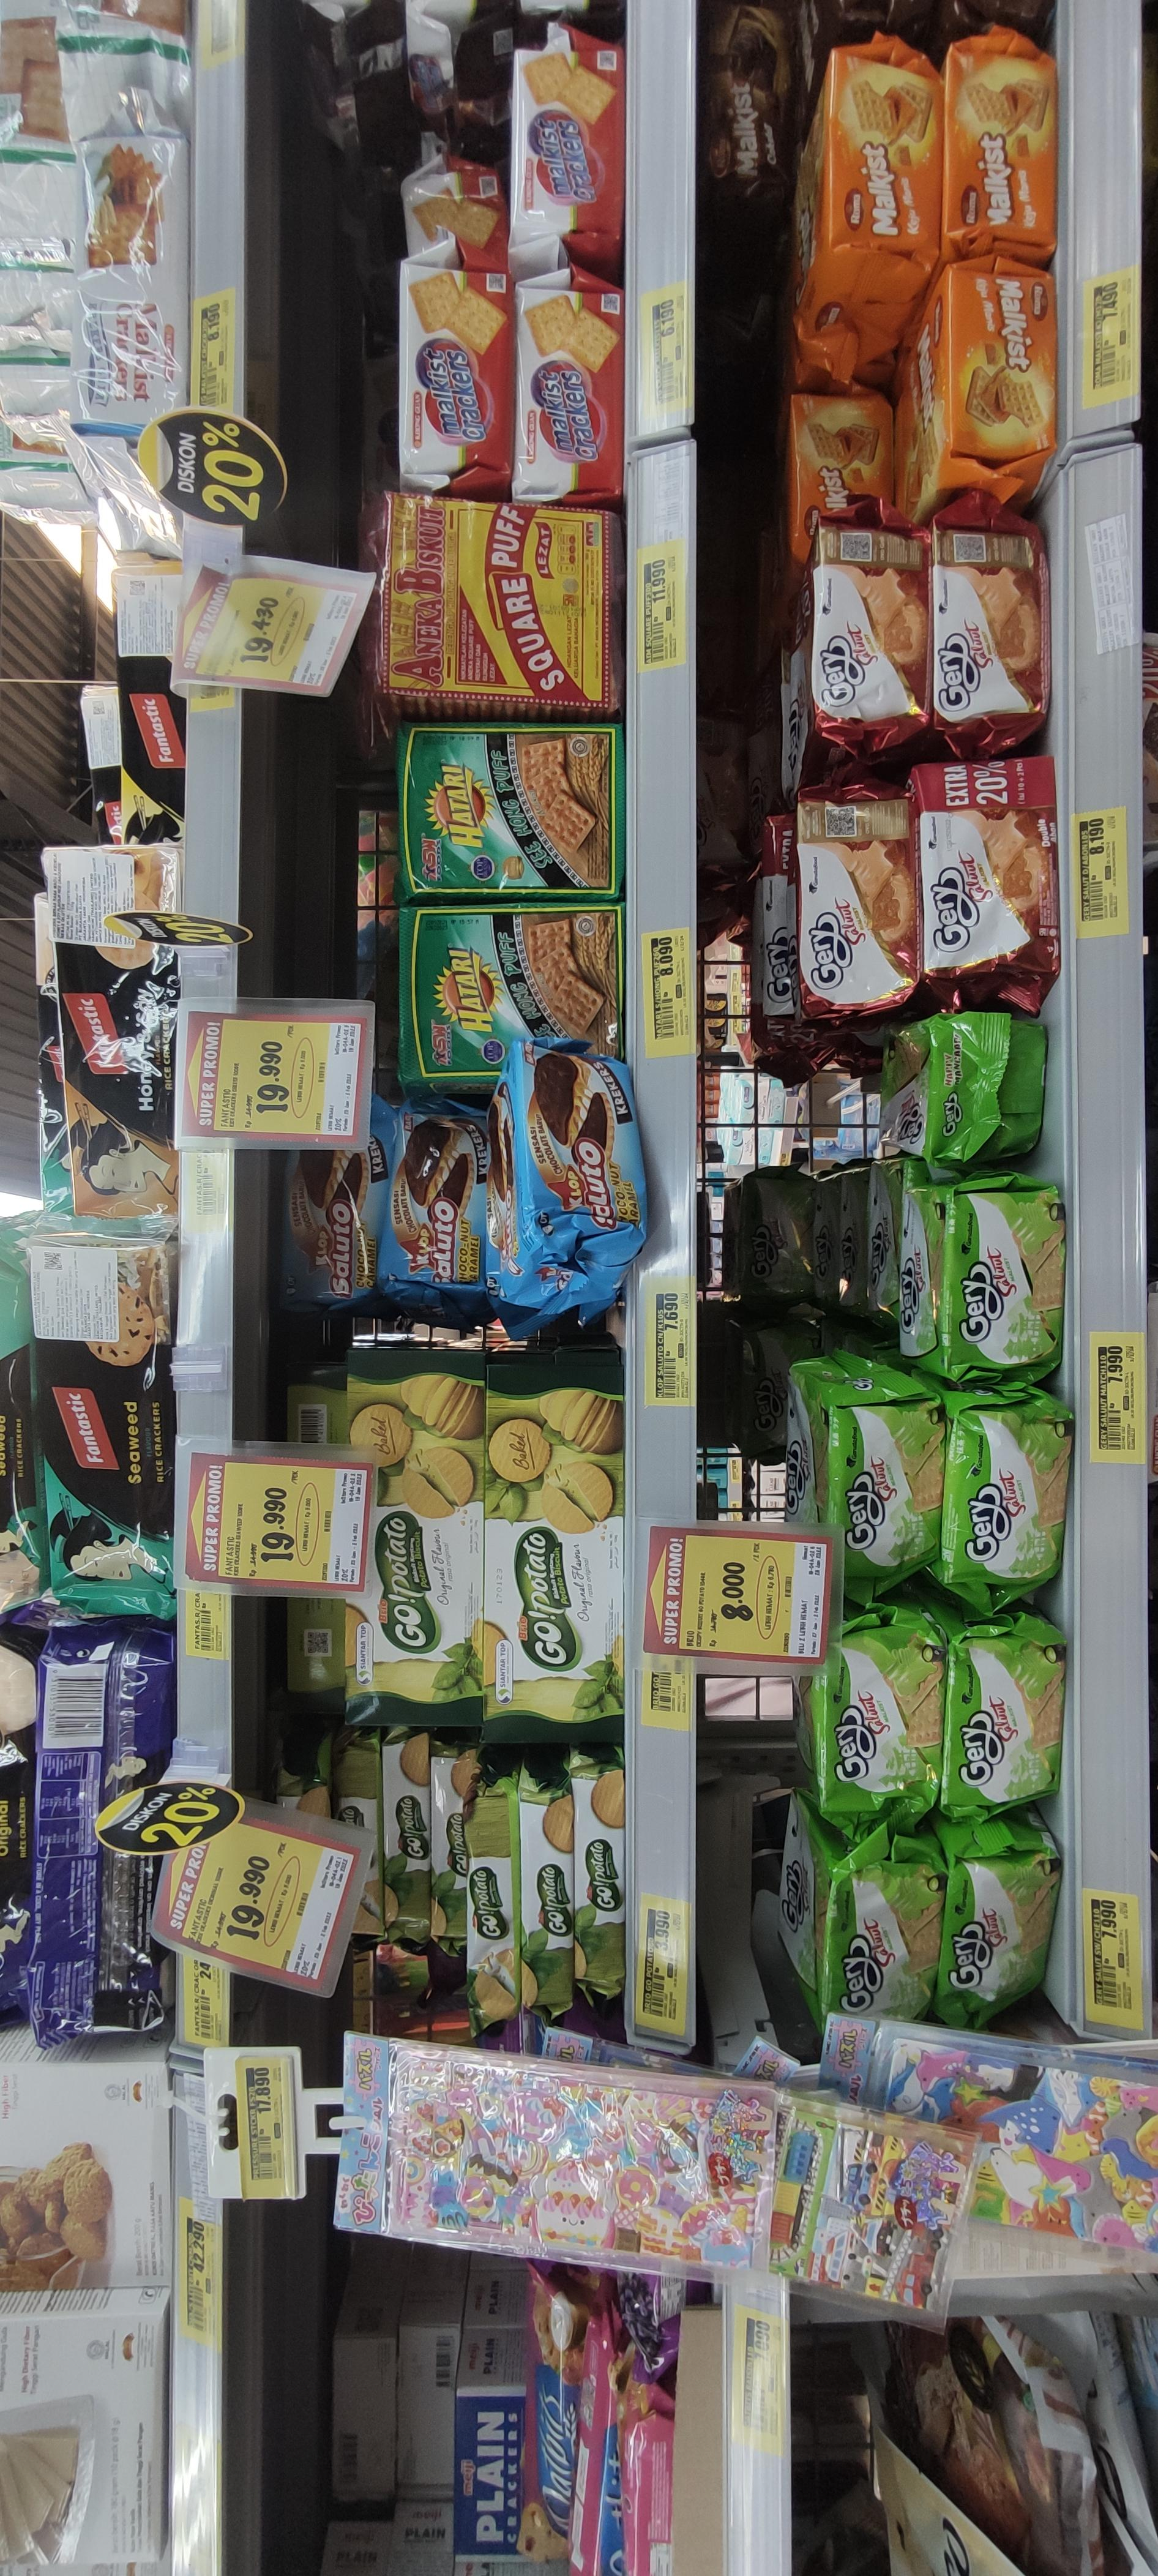90101225212100: (772, 1820, 940, 2027), (775, 1372, 941, 1579), (900, 1178, 1074, 1375), (813, 1620, 949, 1833), (944, 1390, 1066, 1600), (949, 1621, 1068, 1832), (944, 1827, 1061, 2037)
90101225226101: (920, 777, 1084, 1002), (752, 794, 915, 1019), (788, 521, 923, 762), (923, 514, 1058, 744)
AnekaBiskuitSquarePuff: (381, 495, 624, 713)
FantasticHoney&Soy: (48, 853, 177, 1216)
FantasticSeaweed: (39, 1232, 174, 1621)
HatariSeeHongPuff: (401, 721, 619, 899), (407, 904, 626, 1081)
KlopSlutoChocoNutCaramel: (499, 1043, 641, 1319), (389, 1094, 493, 1291)
KongGuanMalkistCrackers: (396, 264, 522, 499), (519, 279, 624, 499), (514, 41, 619, 261)
RomaMalkistKeju: (785, 34, 941, 284), (900, 255, 1056, 503), (944, 28, 1056, 255)
SiantaTopGoPotatoOriginal: (486, 1393, 626, 1722), (340, 1375, 480, 1704)
